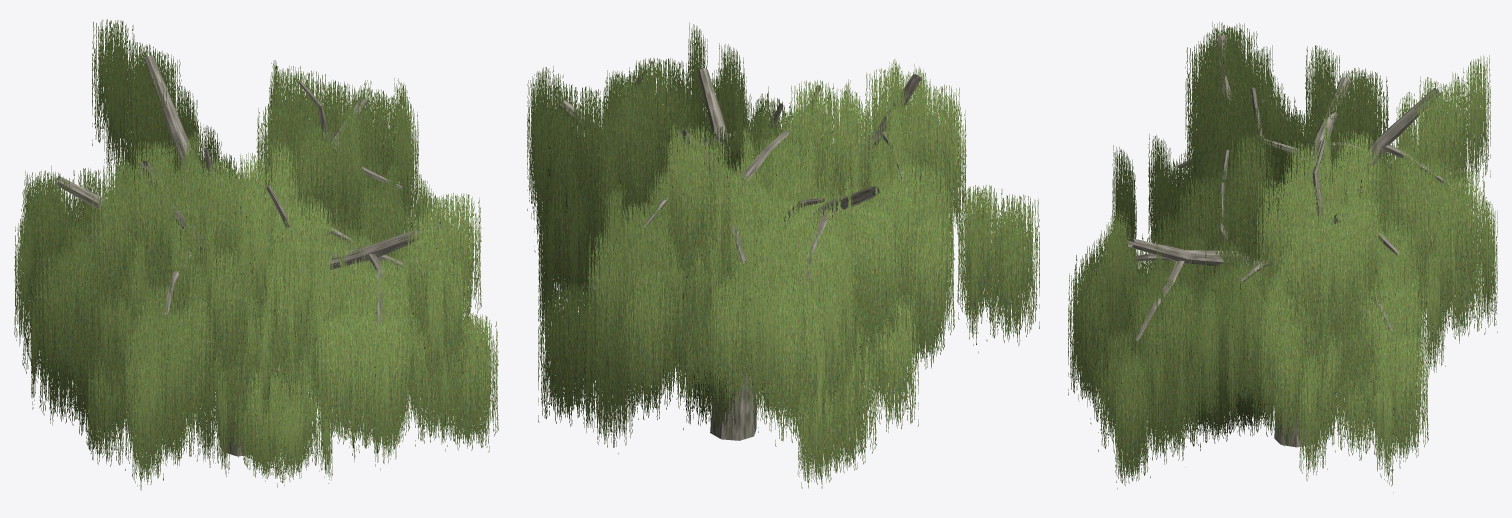
File: Tree_Willow_2.gltf
The picture shows the model from 3 angles, left to right: view 1: azimuth 30°, elevation 25°; view 2: azimuth 150°, elevation 25°; view 3: azimuth 270°, elevation 25°; orthographic projection. The views are drawn at different scales.
Parts seen in each view (by area): view 1: Tree_Willow_2; view 2: Tree_Willow_2; view 3: Tree_Willow_2.
Boxes of the visible parts, x1,y1,x2,y2 form: Tree_Willow_2: (14, 19, 498, 490); Tree_Willow_2: (527, 22, 1039, 488); Tree_Willow_2: (1068, 22, 1497, 492).
Bounding box in the file's own units: 12.5 × 10.84 × 11.45.
2 materials, 2 textured.
